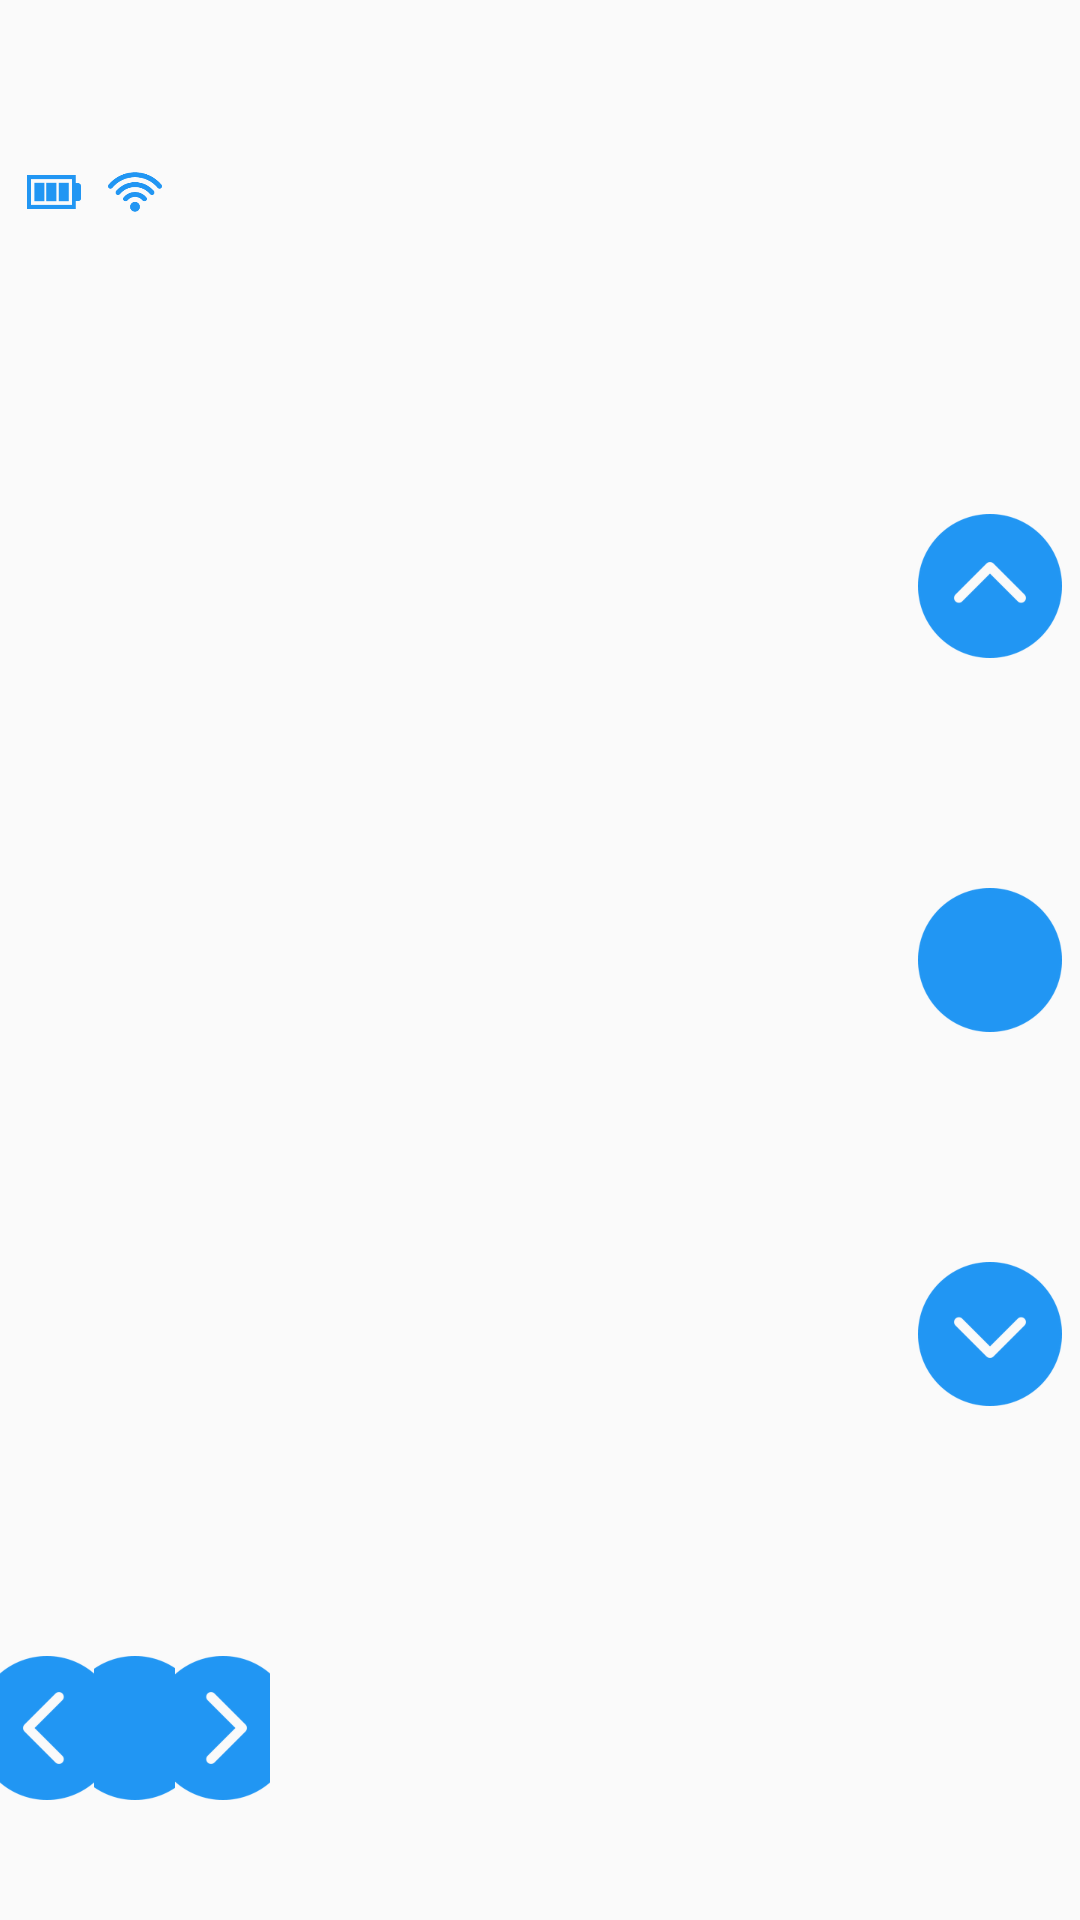

Named icons in this screenshot (1080x1920) and their centers, (x,y):
arrow down: (990,1334)
arrow left: (47,1728)
arrow right: (222,1728)
arrow up: (990,586)
battery full: (54,192)
wifi level: (135,192)
